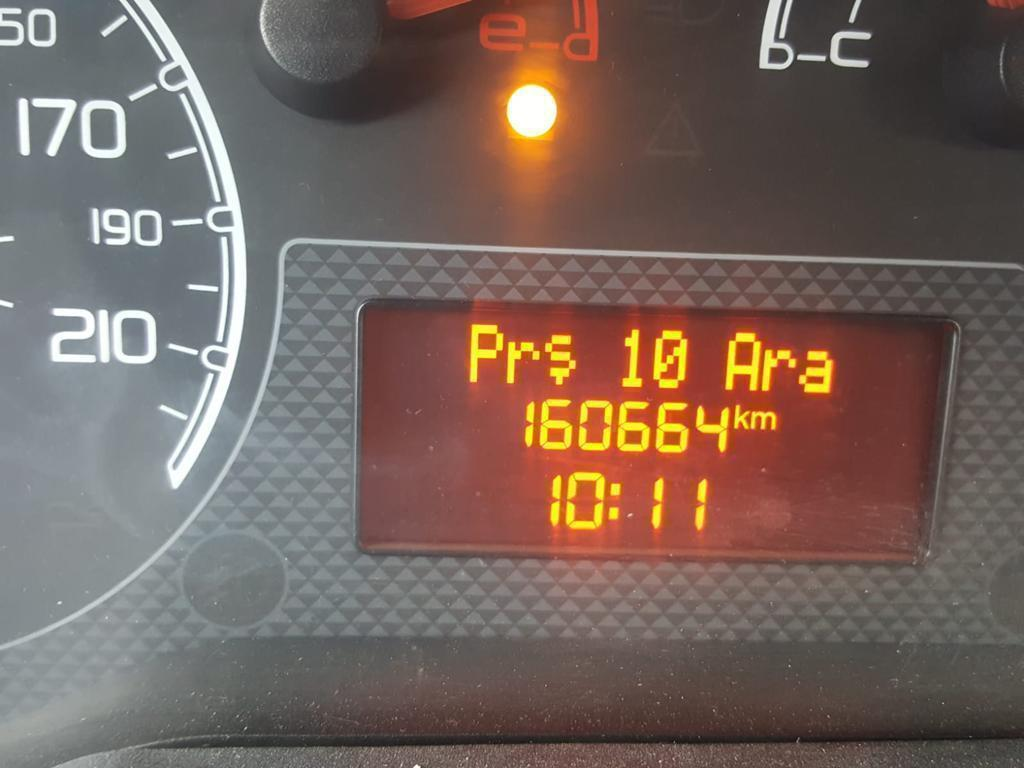0: (651, 326, 690, 391), (564, 470, 604, 532), (576, 397, 614, 453)
1: (616, 323, 646, 391), (687, 471, 713, 533), (643, 472, 667, 531), (541, 471, 562, 531), (517, 396, 538, 449)
4: (693, 403, 730, 455)
6: (652, 398, 691, 455), (615, 397, 651, 454), (538, 396, 574, 452)
X: (463, 318, 505, 386), (721, 327, 761, 393), (542, 329, 579, 388), (798, 347, 836, 394), (762, 344, 796, 393), (506, 338, 539, 386), (607, 476, 624, 526), (749, 407, 779, 432), (733, 399, 749, 432)
odometer: (350, 295, 962, 570)
